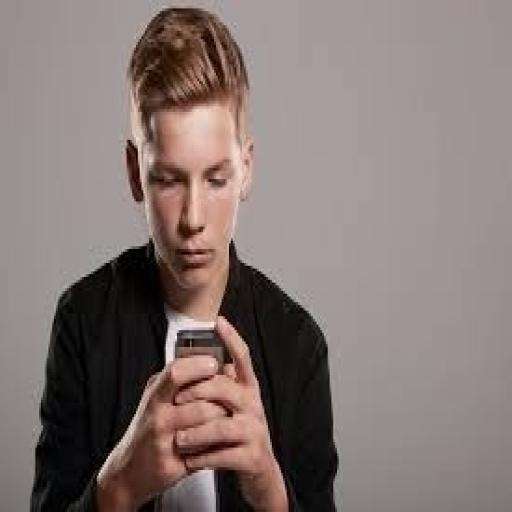texting: (26, 3, 341, 509)
